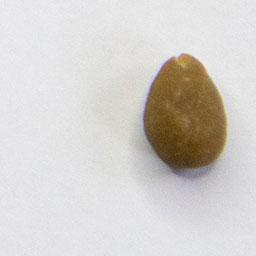defect: (141, 51, 230, 171)
